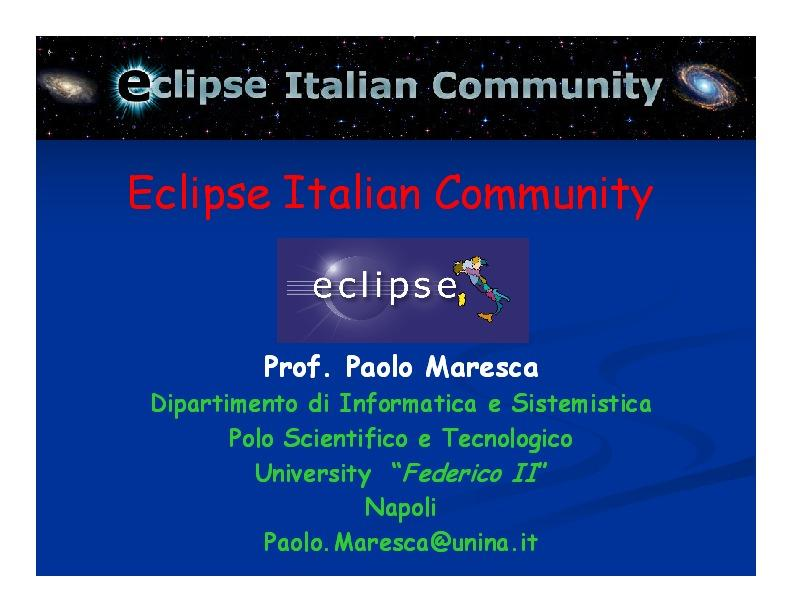subtitle: (102, 342, 682, 572), (117, 157, 662, 223)
title: (88, 51, 707, 125)
